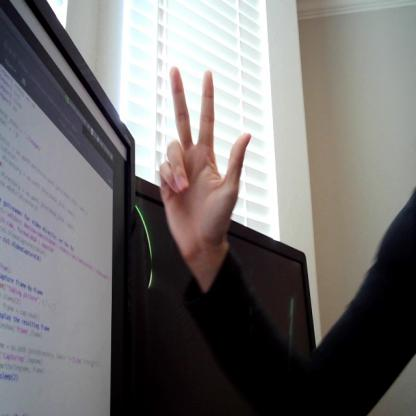three: (155, 66, 254, 259)
